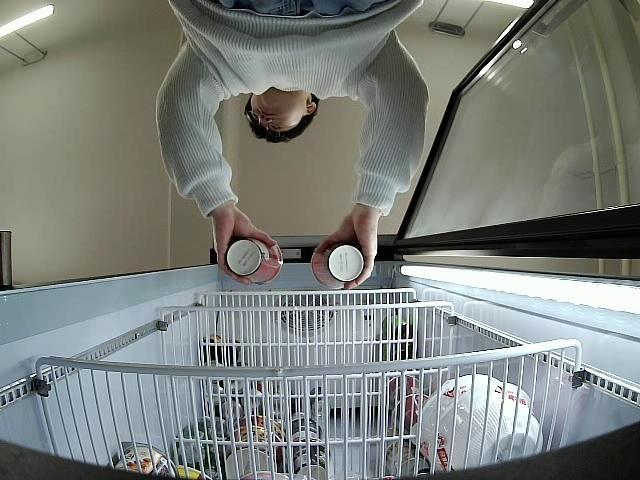02_shinRamen_S: (226, 238, 284, 285), (310, 243, 364, 290)
